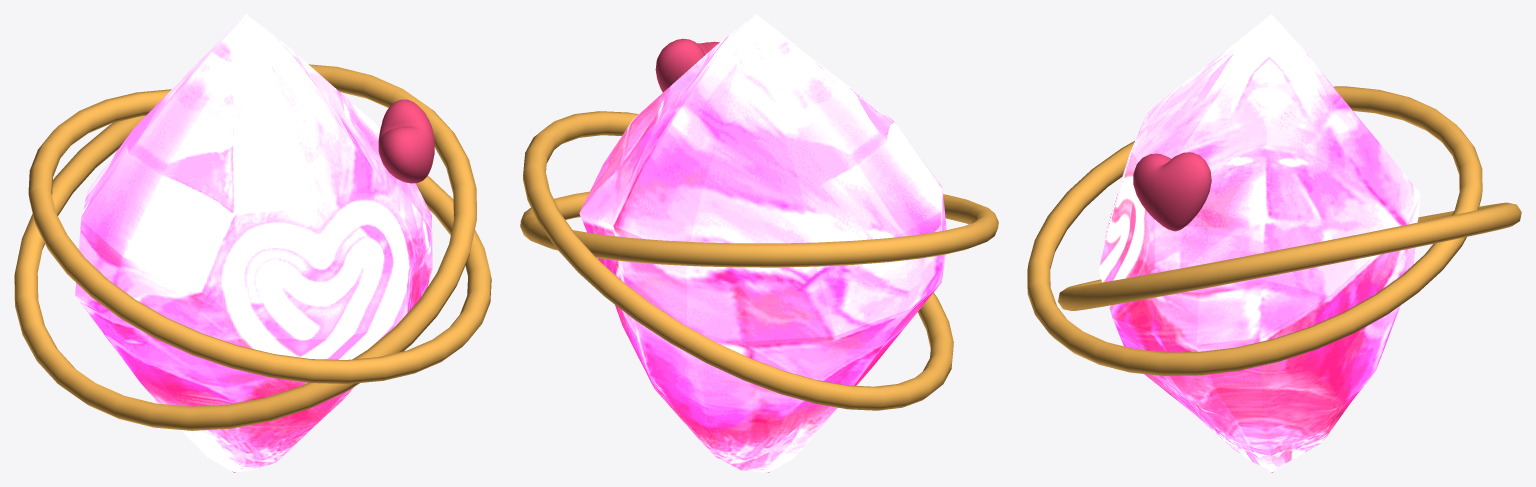
File: ShuiJing01.fbx
3 renders of one model, left to right at view 1: azimuth 30°, elevation 25°; view 2: azimuth 150°, elevation 25°; view 3: azimuth 270°, elevation 25°, orthographic.
Visible parts, largest first — view 1: sj, huan; view 2: sj, huan; view 3: sj, huan.
Boxes of the visible parts, x1=… form: sj: x1=75, y1=14, x2=432, y2=472; huan: x1=14, y1=64, x2=491, y2=430; sj: x1=579, y1=14, x2=946, y2=472; huan: x1=520, y1=38, x2=998, y2=410; sj: x1=1099, y1=14, x2=1420, y2=472; huan: x1=1027, y1=86, x2=1521, y2=375.
Size of the model in its own units: 8.47 by 9.05 by 8.98.
